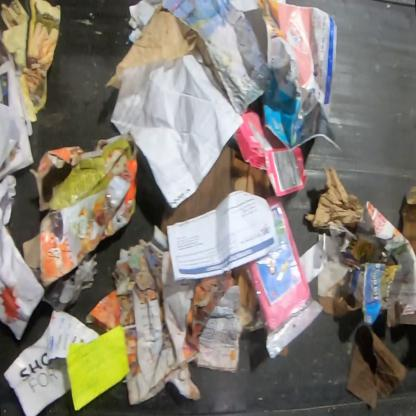cardboard: (22, 133, 139, 287), (160, 146, 276, 230), (233, 109, 307, 198), (346, 322, 405, 410), (303, 166, 363, 229), (232, 264, 258, 314), (401, 186, 415, 259)
soft_plastic: (244, 197, 324, 360)
